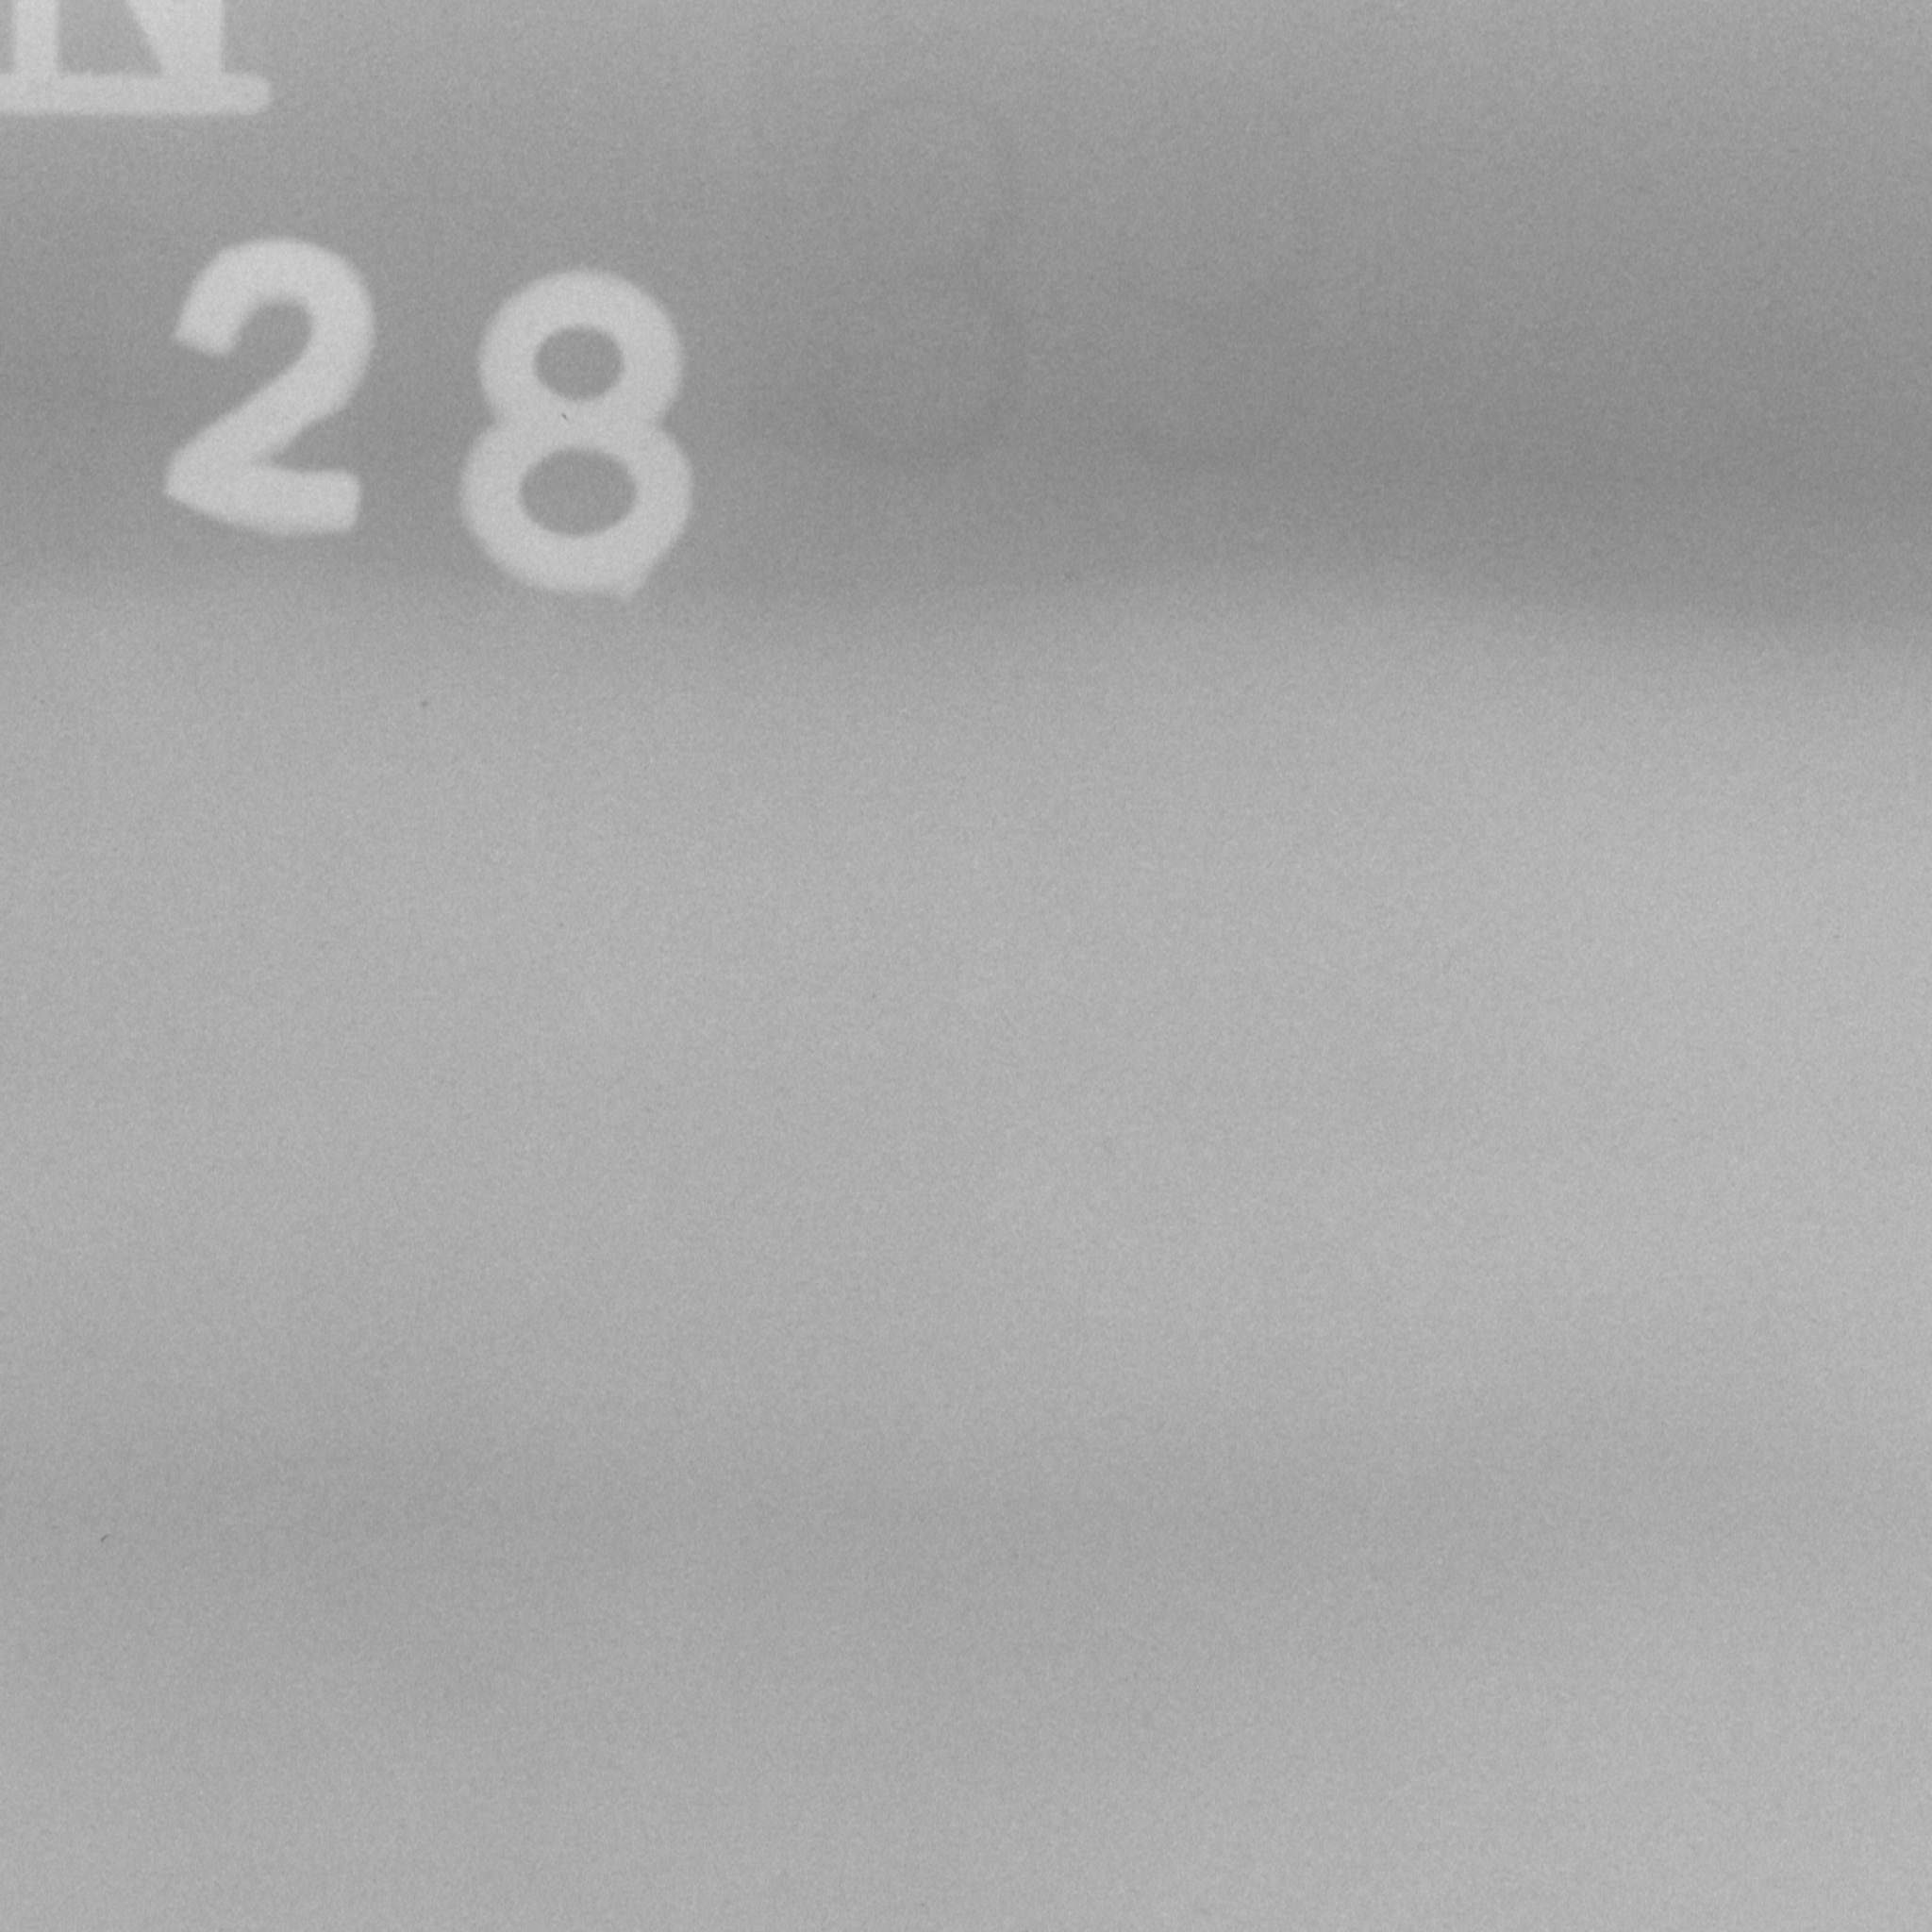Sem defeitos: (0, 527, 1932, 1522)
